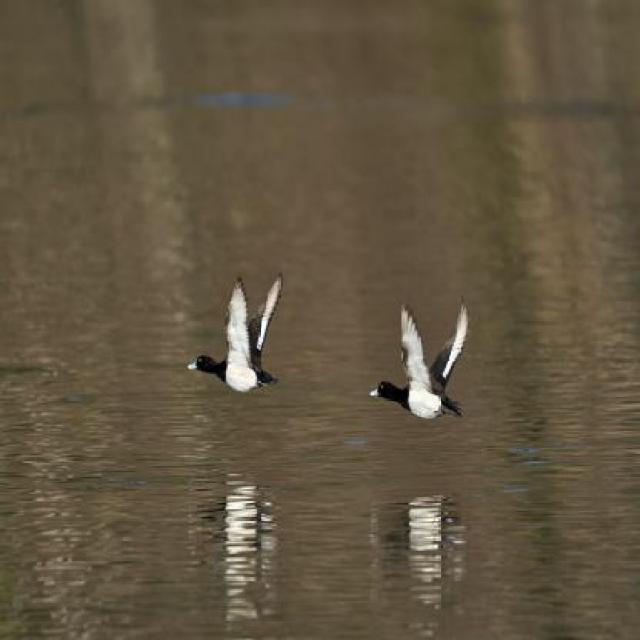bird: (370, 296, 470, 418), (189, 270, 283, 392)
